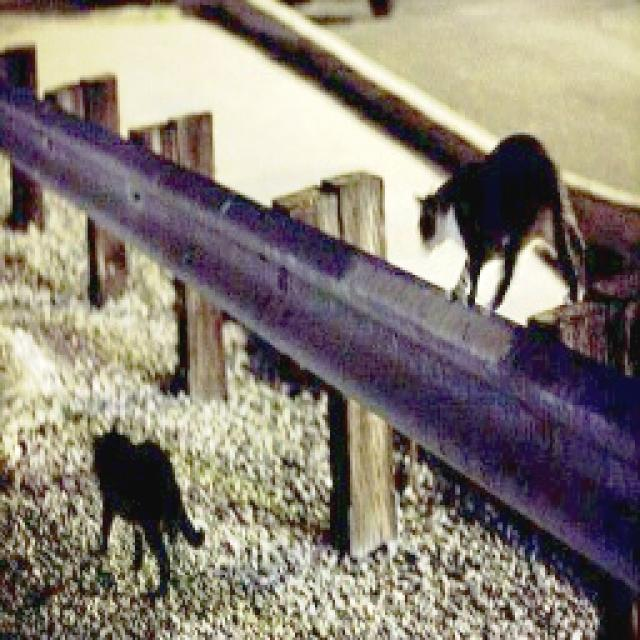cat: (415, 127, 595, 309), (83, 420, 209, 602)
